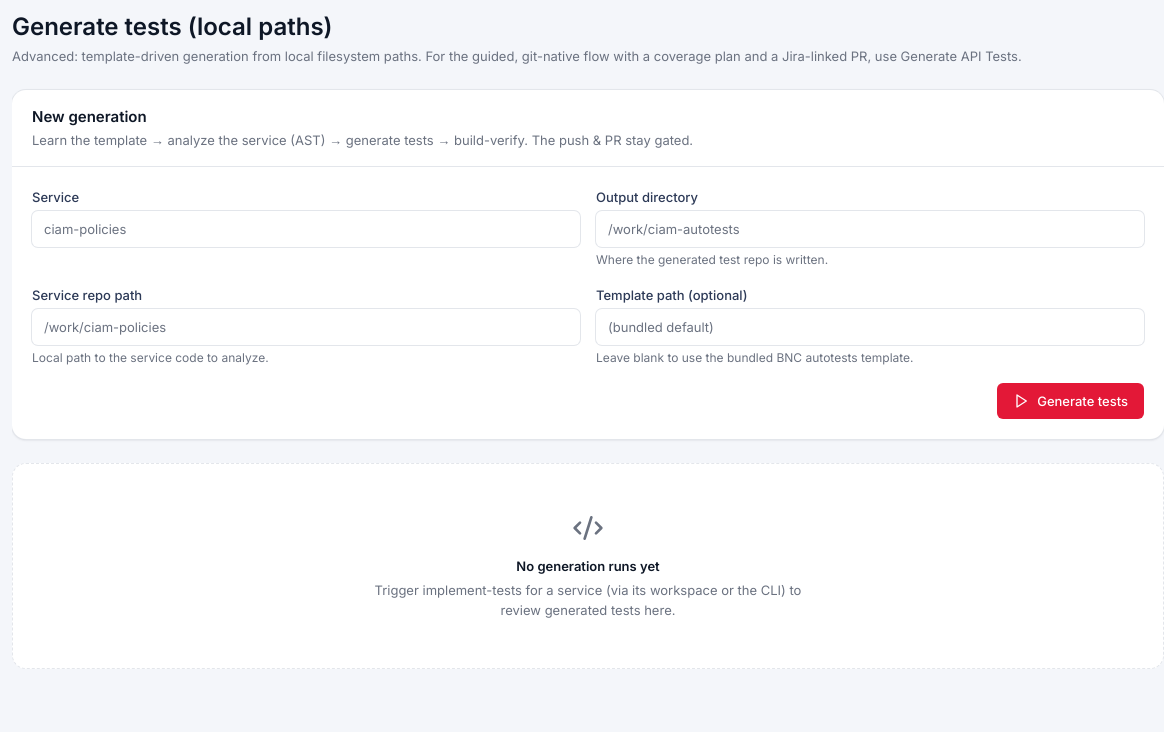
Test: Codegen — Generate tests workspace › blocks a generation with a toast when required fields are empty
The width and height of the screenshot is (1164, 732).
Click the button "Generate tests" at (1071,401), box [997, 383, 1144, 419]
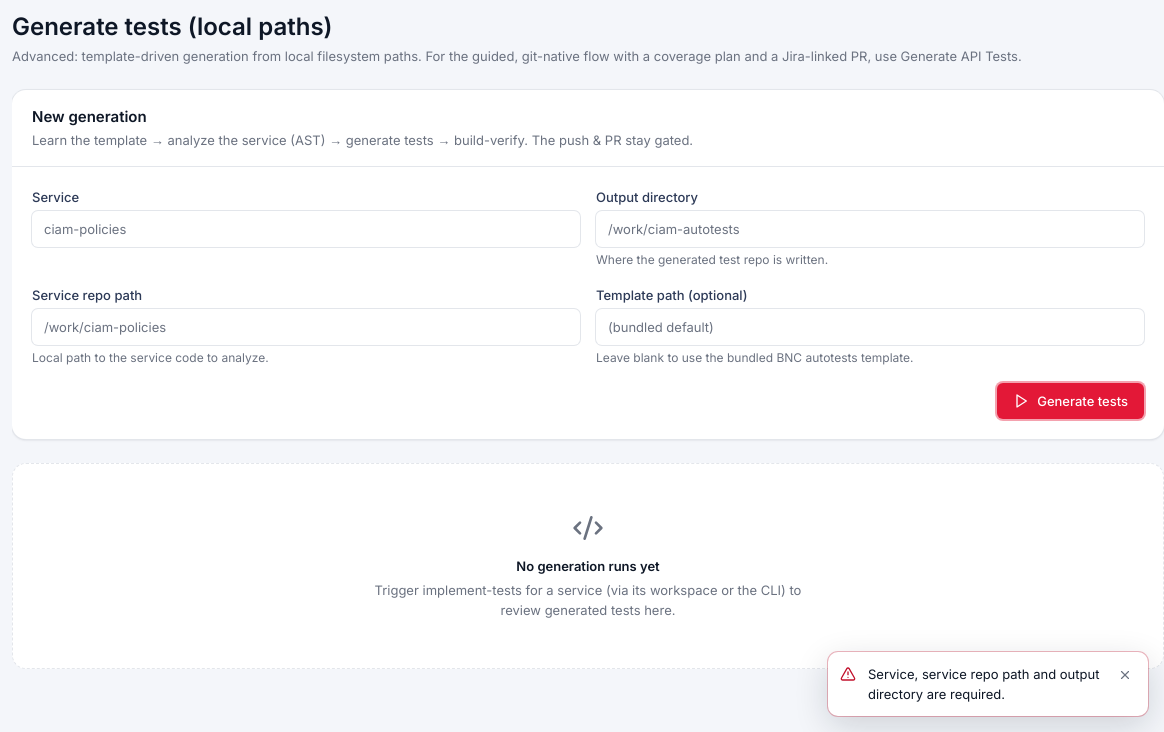
Expected: the text "Service, service repo path and output directory are required" is shown, [868, 666, 1099, 702]
